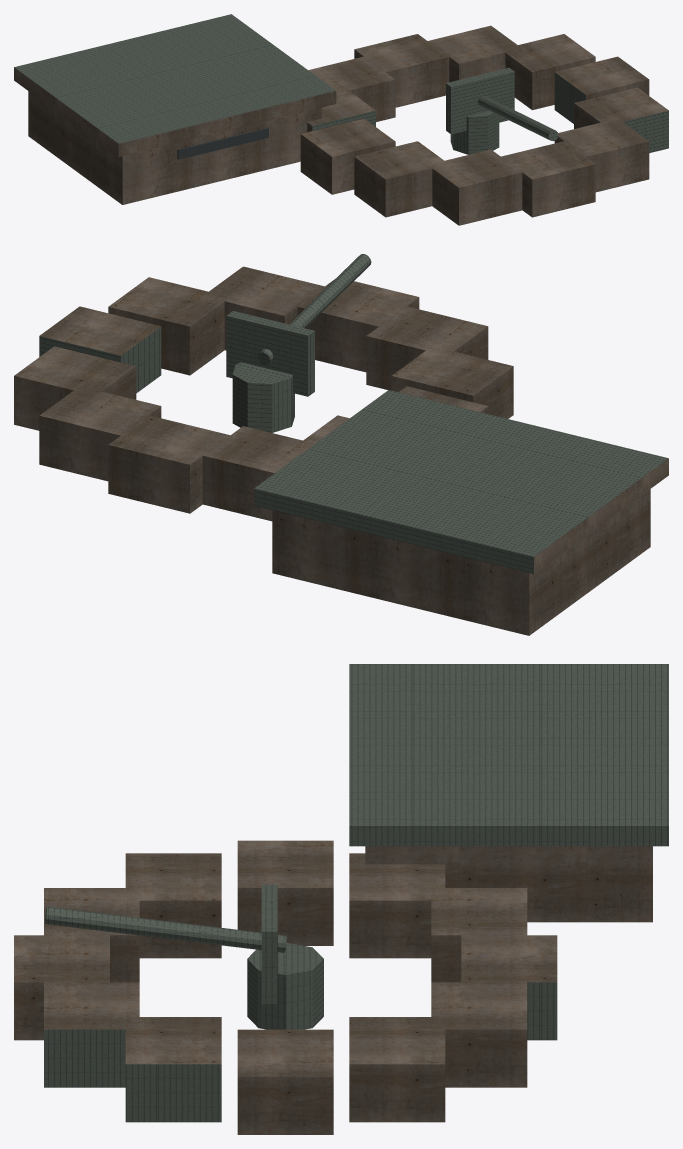
Rendered from damaged1.gltf.
The picture shows the model from 3 angles, top to bottom: view 1: azimuth 30°, elevation 25°; view 2: azimuth 150°, elevation 25°; view 3: azimuth 270°, elevation 25°; orthographic projection. The views are drawn at different scales.
Visible parts, largest first — view 1: britainbattery_damaged1; view 2: britainbattery_damaged1; view 3: britainbattery_damaged1.
Boxes of the visible parts, box(x1,y1,x2,y2) form: britainbattery_damaged1: box(14, 14, 668, 225); britainbattery_damaged1: box(14, 254, 668, 635); britainbattery_damaged1: box(14, 664, 668, 1134).
Size of the model in its own units: 54.5 by 7.55 by 41.
Materials: 4 (3 with a texture image).
